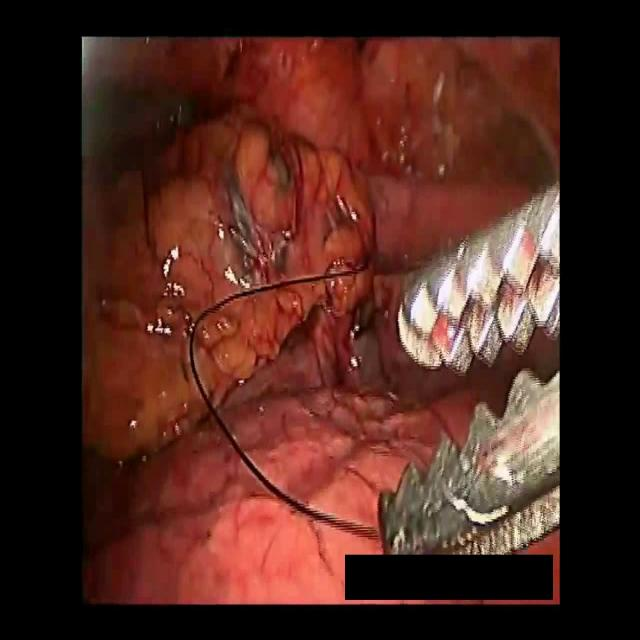surgical-area: (82, 37, 560, 609)
surgical-tool: (376, 180, 561, 556)
